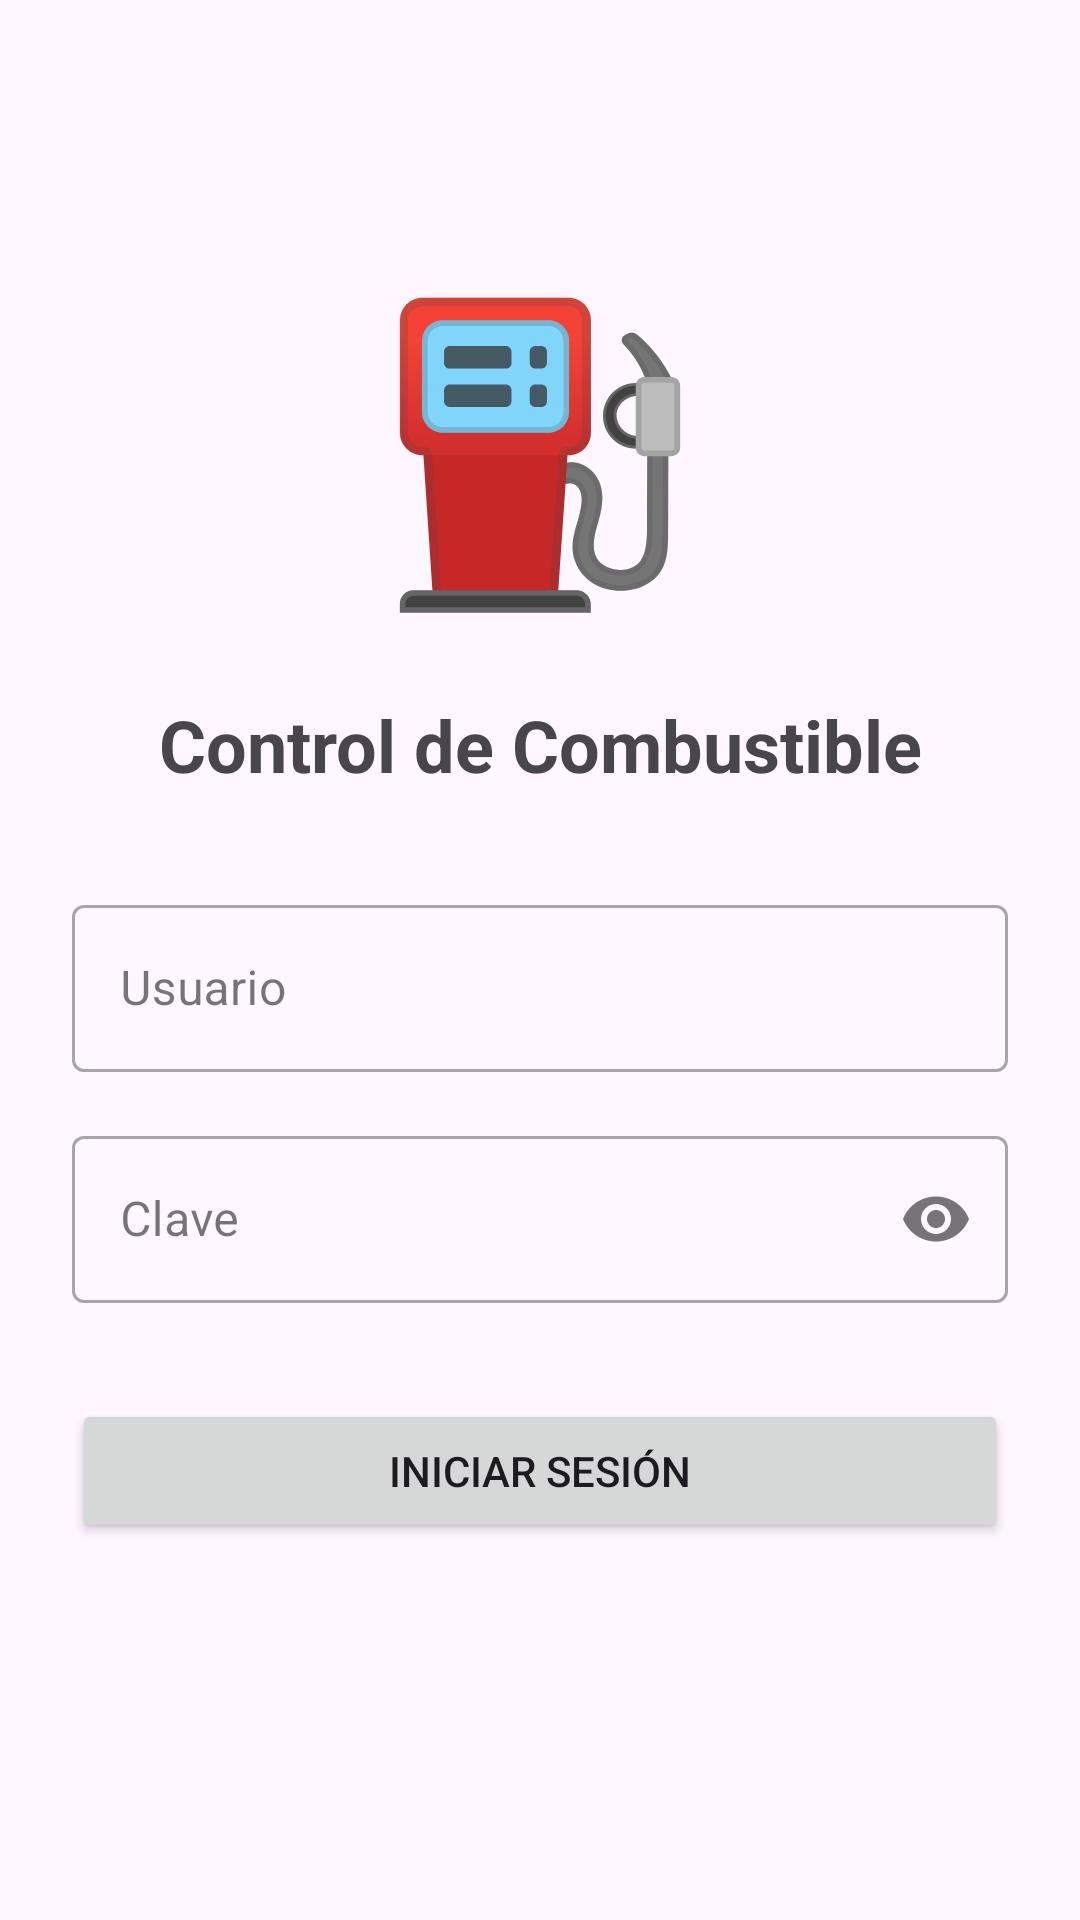

Screen size 1080px x 1920px. Icon name, then its box in pixels as (x1, y1, x2, y2):
Icono de la aplicación: (399, 297, 680, 613)
